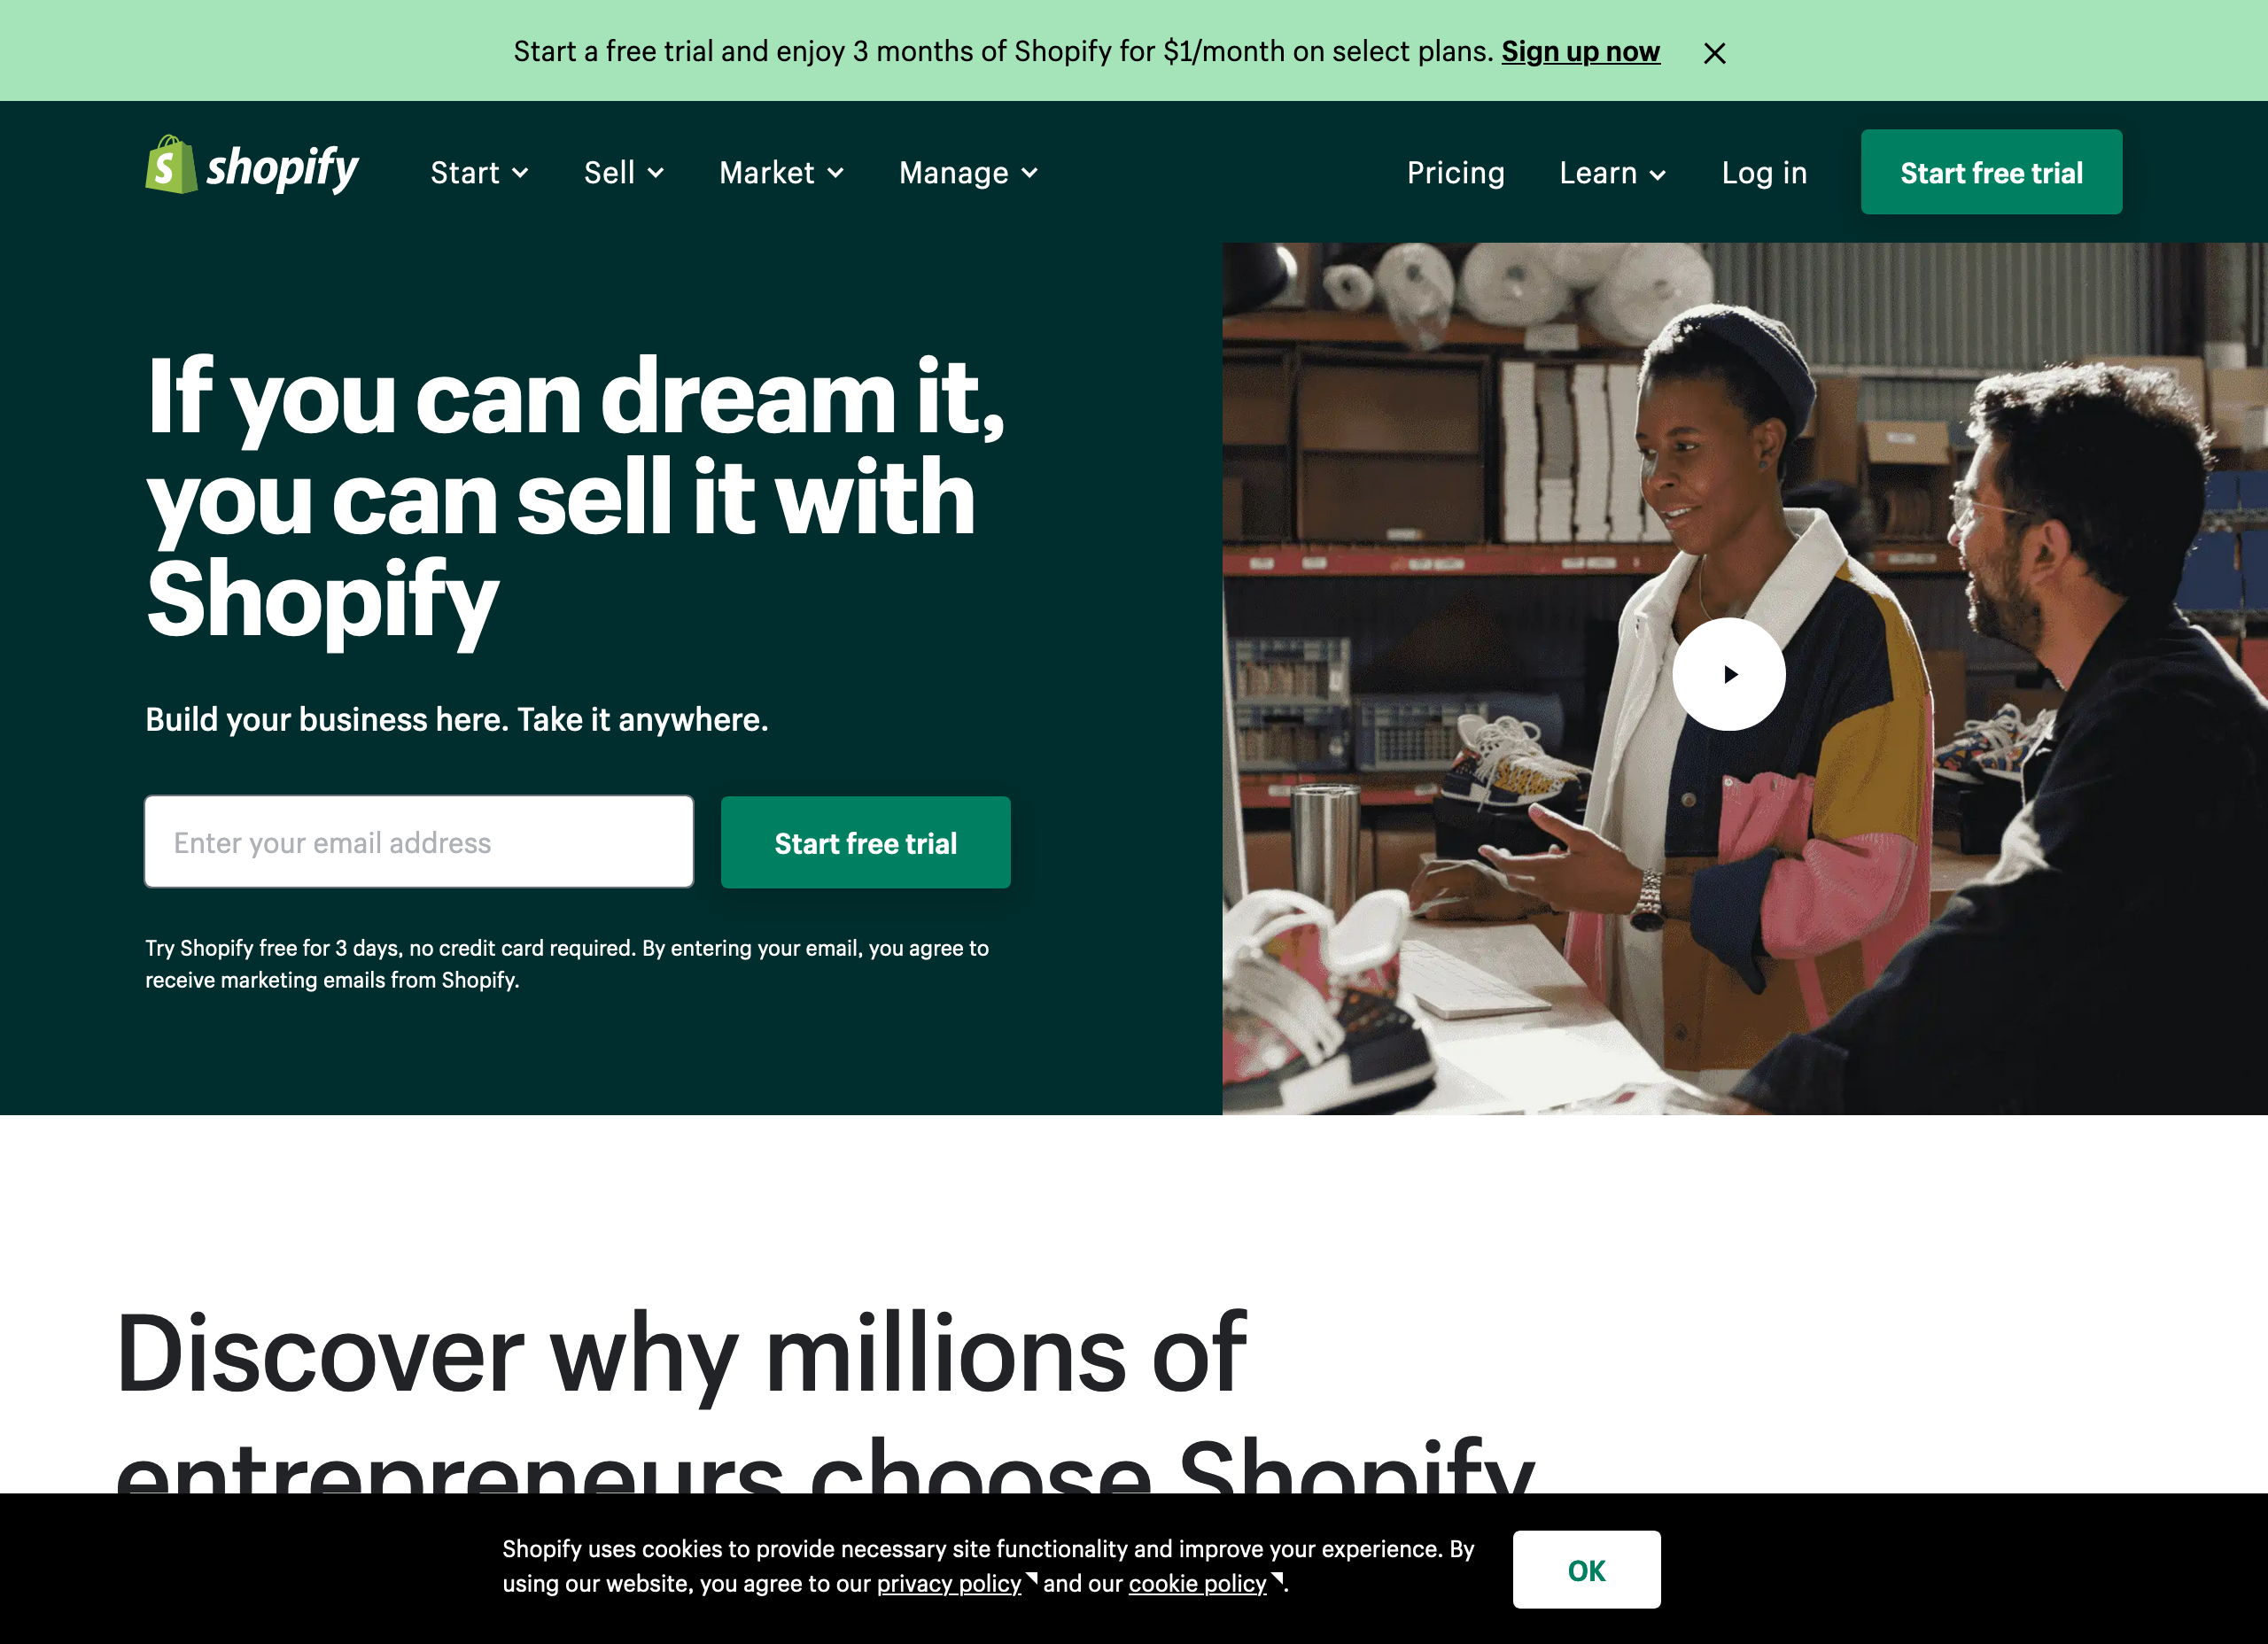Login: (1705, 146, 1828, 204)
